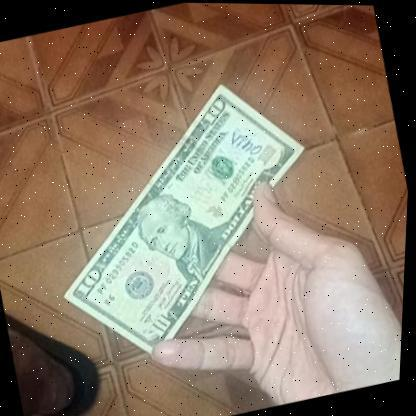ten-front: (23, 64, 348, 378)
